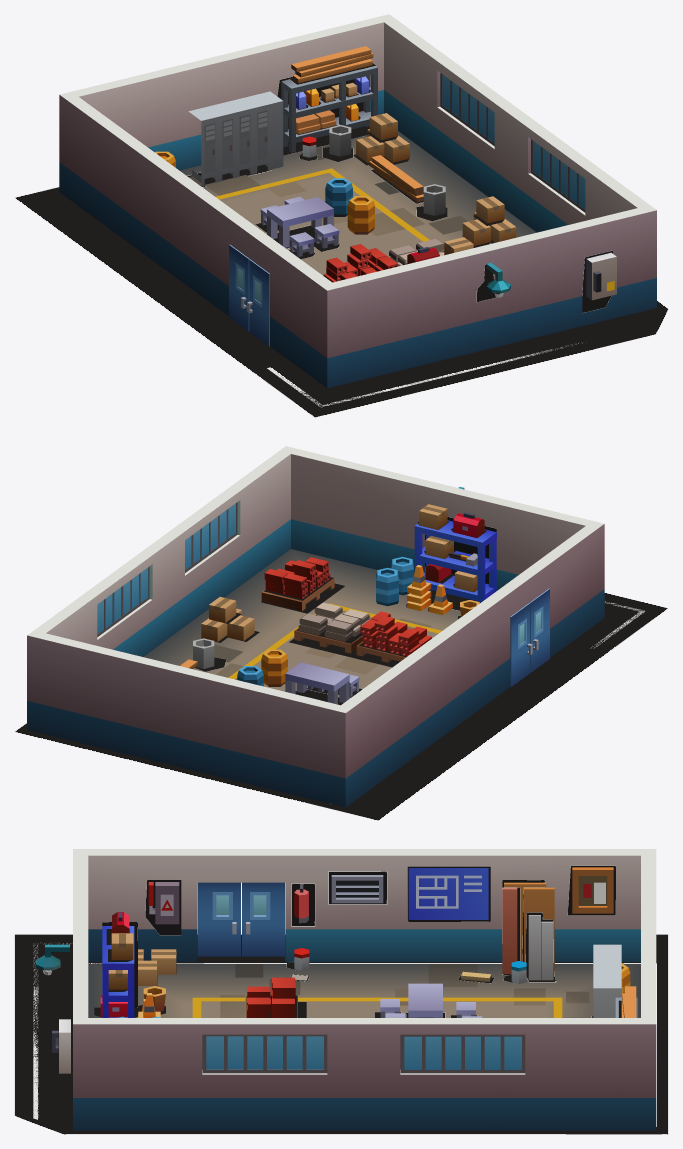
File: store room.fbx
The picture shows the model from 3 angles, top to bottom: view 1: azimuth 30°, elevation 25°; view 2: azimuth 150°, elevation 25°; view 3: azimuth 270°, elevation 25°; orthographic projection. The views are drawn at different scales.
Parts seen in each view (by area): view 1: P03_carpentry_walls_int.002, P2_kitchen_walls_shadow.001, P03_carpentry_building_floor, P03_carpentry_shelving, P01_warehouse_table.001, P03_carpentry_wood_plank_05, P00_classic_door_1.003, P00_classic_door_2.003, P03_carpentry_walls_window_glass.006, P03_carpentry_walls_window_glass.005, P01_quarter_locker_F (2).002, P01_quarter_locker_F (4).002 (+15 smaller); view 2: P03_carpentry_walls_int.002, P2_kitchen_walls_shadow.001, P03_carpentry_building_floor, P01_warehouse_shelving.001, P01_warehouse_table.001, P00_classic_door_2.003, P03_carpentry_walls_window_glass.005, P00_classic_door_1.003, P03_carpentry_walls_window_glass.006, P00_building_brick_pallet_a (1).004, P00_building_cement_pallet_a.001, P00_building_brick_pallet (1).001 (+15 smaller); view 3: P03_carpentry_walls_int.002, P03_carpentry_building_floor, P2_kitchen_walls_shadow.001, P03_carpentry_wood_01, P01_wharehouse_plan.001, P03_carpentry_walls_window_glass.004, P03_carpentry_walls_window_glass.003, P00_classic_door_1.003, P00_classic_door_2.003, P03_carpentry_walls_window (1).001, P03_carpentry_wall_panel, P03_carpentry_walls_window (2).001 (+22 smaller).
Boxes of the visible parts, <box> form: P03_carpentry_walls_int.002: <box>59,14,656,388</box>; P2_kitchen_walls_shadow.001: <box>14,187,668,417</box>; P03_carpentry_building_floor: <box>180,131,536,275</box>; P03_carpentry_shelving: <box>281,66,377,152</box>; P01_warehouse_table.001: <box>267,197,333,247</box>; P03_carpentry_wood_plank_05: <box>291,46,373,83</box>; P00_classic_door_1.003: <box>247,259,269,346</box>; P00_classic_door_2.003: <box>229,244,249,331</box>; P03_carpentry_walls_window_glass.006: <box>533,141,585,209</box>; P03_carpentry_walls_window_glass.005: <box>442,74,494,142</box>; P01_quarter_locker_F (2).002: <box>241,94,271,173</box>; P01_quarter_locker_F (4).002: <box>188,107,218,186</box>; P03_carpentry_walls_int.002: <box>27,446,604,807</box>; P2_kitchen_walls_shadow.001: <box>14,592,668,820</box>; P03_carpentry_building_floor: <box>143,549,461,698</box>; P01_warehouse_shelving.001: <box>414,520,496,603</box>; P01_warehouse_table.001: <box>285,662,349,704</box>; P00_classic_door_2.003: <box>510,603,532,686</box>; P03_carpentry_walls_window_glass.005: <box>97,568,148,633</box>; P00_classic_door_1.003: <box>530,588,549,672</box>; P03_carpentry_walls_window_glass.006: <box>185,503,235,569</box>; P00_building_brick_pallet_a (1).004: <box>314,602,369,641</box>; P00_building_cement_pallet_a.001: <box>294,613,362,653</box>; P00_building_brick_pallet (1).001: <box>261,560,334,611</box>; P03_carpentry_walls_int.002: <box>73,849,656,1130</box>; P03_carpentry_building_floor: <box>88,964,640,1017</box>; P2_kitchen_walls_shadow.001: <box>14,934,668,1134</box>; P03_carpentry_wood_01: <box>502,882,554,980</box>; P01_wharehouse_plan.001: <box>408,868,488,919</box>; P03_carpentry_walls_window_glass.004: <box>206,1036,323,1069</box>; P03_carpentry_walls_window_glass.003: <box>404,1036,521,1069</box>; P00_classic_door_1.003: <box>197,882,240,956</box>; P00_classic_door_2.003: <box>242,882,284,956</box>; P03_carpentry_walls_window (1).001: <box>202,1034,327,1073</box>; P03_carpentry_wall_panel: <box>572,867,613,913</box>; P03_carpentry_walls_window (2).001: <box>400,1034,525,1073</box>.
Size of the model in its own units: 1080 by 1492 by 269.
2 materials, 2 textured.
